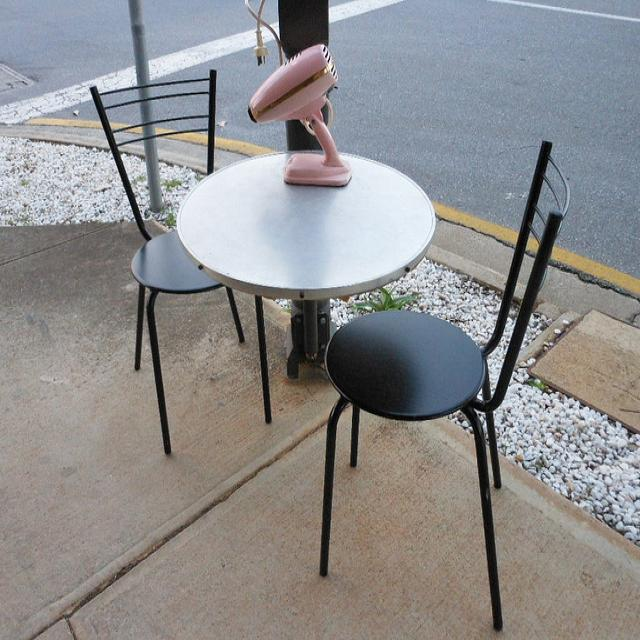chair: (317, 134, 573, 630), (88, 72, 269, 461)
dining table: (178, 150, 440, 302)
